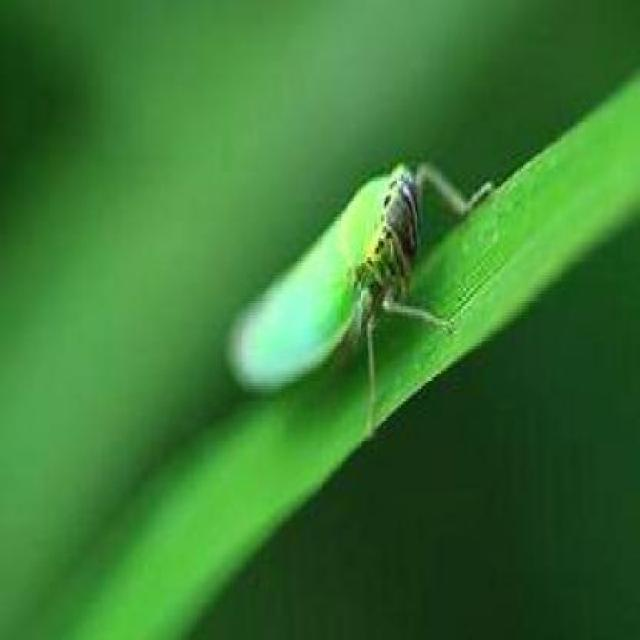green-leafhopper: (230, 168, 465, 428)
